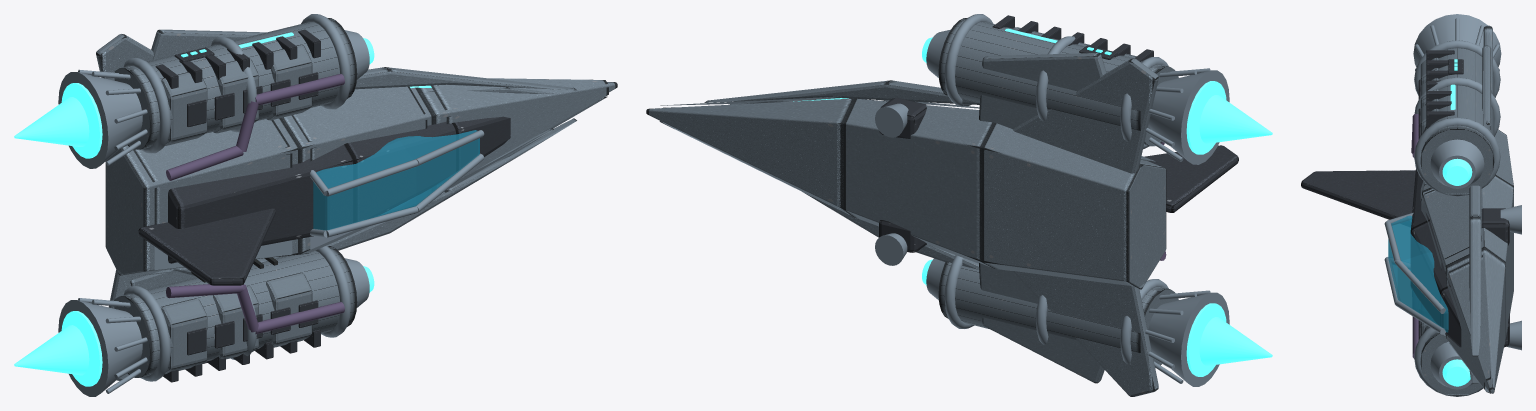
The model's file is rocket-high.glb.
The picture shows the model from 3 angles, left to right: view 1: azimuth 30°, elevation 25°; view 2: azimuth 150°, elevation 25°; view 3: azimuth 270°, elevation 25°; orthographic projection. The views are drawn at different scales.
Visible parts, largest first — view 1: rocket-root / Brushed pale alloy, rocket-root / Ceramic graphite, rocket-root / Titanium edges, rocket-root / Cyan glazing, rocket-root / Anodized hardware, rocket-root / Cyan instrumentation, Engine exhaust.001 / Cyan instrumentation, Engine exhaust / Cyan instrumentation; view 2: rocket-root / Brushed pale alloy, rocket-root / Titanium edges, rocket-root / Ceramic graphite, rocket-root / Cyan instrumentation, Engine exhaust.001 / Cyan instrumentation, Engine exhaust / Cyan instrumentation; view 3: rocket-root / Brushed pale alloy, rocket-root / Titanium edges, rocket-root / Ceramic graphite, rocket-root / Cyan glazing, rocket-root / Cyan instrumentation, rocket-root / Anodized hardware.
Part boxes in pixels (x1,y1,x2,y2): rocket-root / Brushed pale alloy: (96, 18, 617, 380); rocket-root / Ceramic graphite: (138, 29, 510, 382); rocket-root / Titanium edges: (58, 14, 484, 396); rocket-root / Cyan glazing: (313, 130, 479, 230); rocket-root / Anodized hardware: (166, 74, 344, 334); rocket-root / Cyan instrumentation: (61, 32, 431, 386); Engine exhaust.001 / Cyan instrumentation: (14, 97, 89, 146); Engine exhaust / Cyan instrumentation: (14, 325, 89, 375); rocket-root / Brushed pale alloy: (646, 18, 1178, 396); rocket-root / Titanium edges: (875, 14, 1229, 386); rocket-root / Ceramic graphite: (879, 15, 1238, 252); rocket-root / Cyan instrumentation: (793, 28, 1226, 376); Engine exhaust.001 / Cyan instrumentation: (1199, 95, 1272, 143); Engine exhaust / Cyan instrumentation: (1199, 317, 1272, 365); rocket-root / Brushed pale alloy: (1420, 25, 1513, 396); rocket-root / Titanium edges: (1384, 14, 1521, 396); rocket-root / Ceramic graphite: (1301, 50, 1509, 347); rocket-root / Cyan glazing: (1388, 215, 1448, 332); rocket-root / Cyan instrumentation: (1442, 59, 1472, 386); rocket-root / Anodized hardware: (1411, 113, 1418, 358).
Bounding box in the file's own units: 1.7 × 0.9044 × 0.5948.
7 materials, 2 textured.
